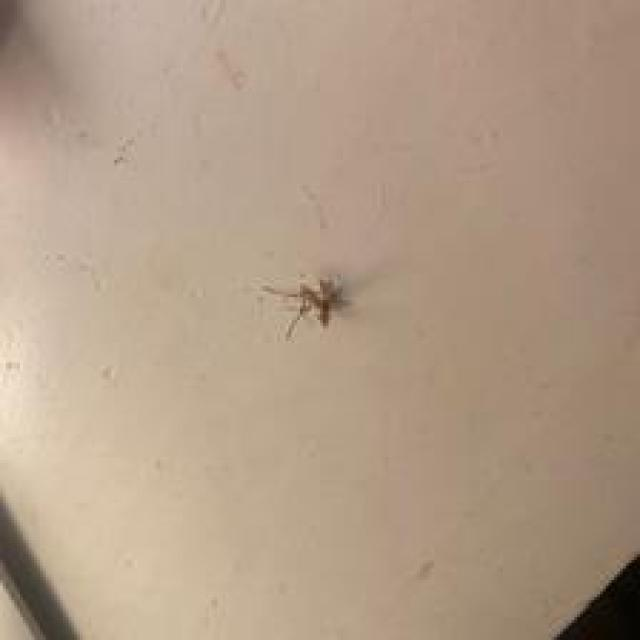Culex: (260, 271, 351, 340)
